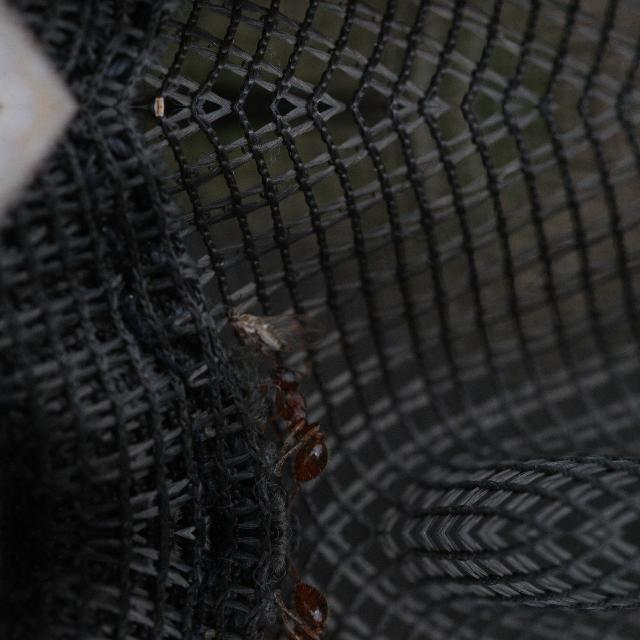Myrmica: (238, 344, 360, 490), (236, 574, 360, 640)
